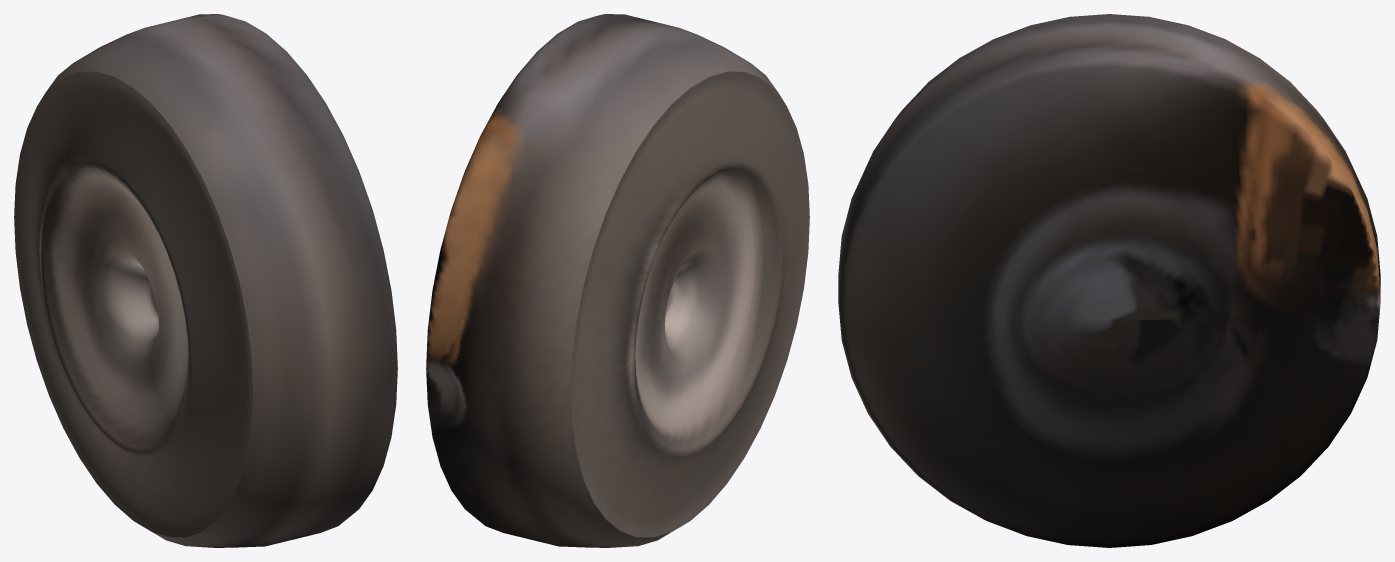
The picture shows the model from 3 angles, left to right: view 1: azimuth 30°, elevation 25°; view 2: azimuth 150°, elevation 25°; view 3: azimuth 270°, elevation 25°; orthographic projection.
Parts seen in each view (by area): view 1: wheel_FR; view 2: wheel_FR; view 3: wheel_FR.
Part boxes in pixels (bbox=[...]): wheel_FR: bbox=[14, 14, 397, 547]; wheel_FR: bbox=[426, 14, 809, 547]; wheel_FR: bbox=[838, 14, 1380, 547].
Bounding box in the file's own units: 0.137 × 0.35 × 0.35.
1 material, 1 textured.
